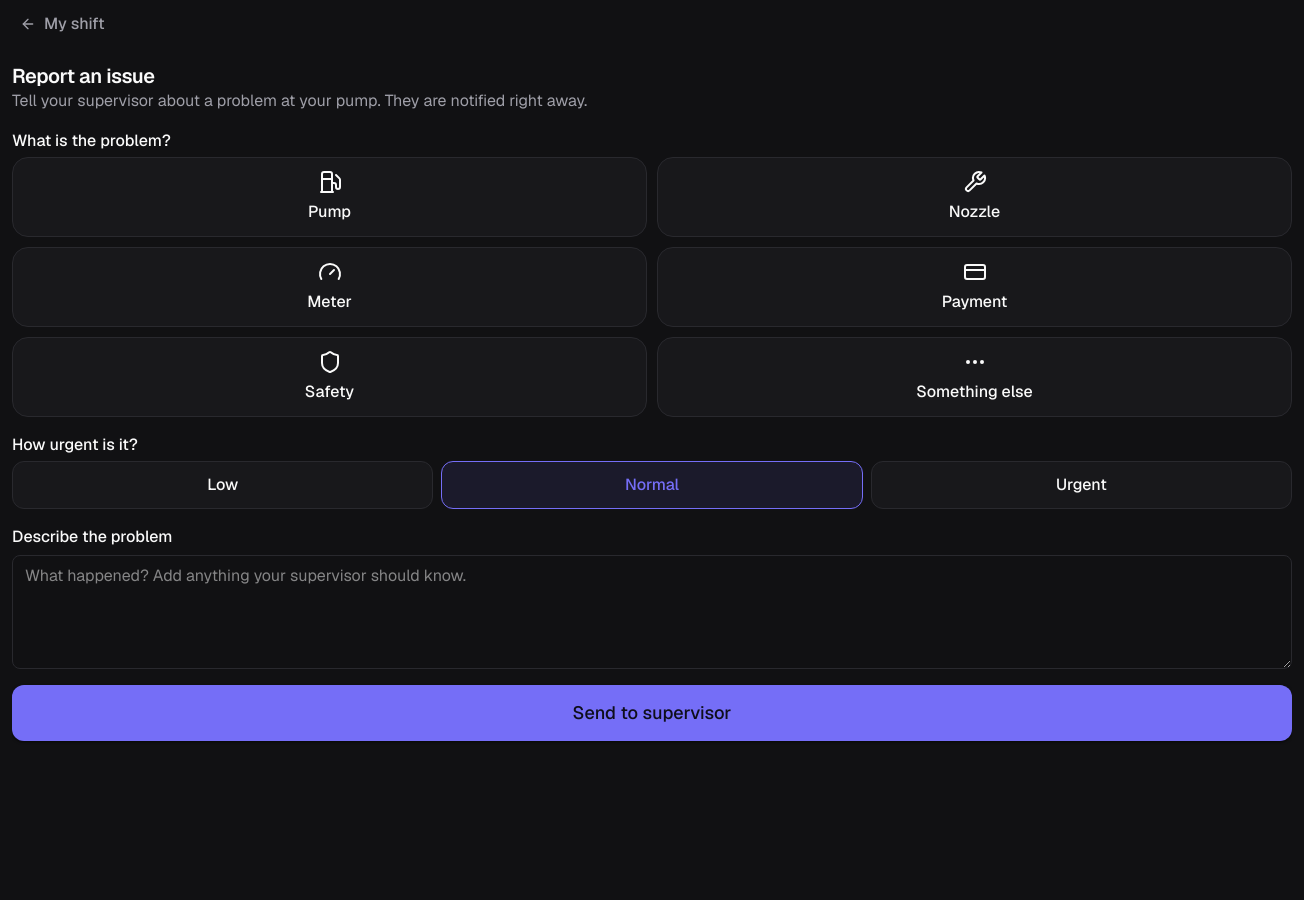
Test: ReportIssuePage › validates that a type and a description are required before confirming
The width and height of the screenshot is (1304, 900).
No type, no description → submit shows validation, no confirm step.
Click the button "Send to supervisor": (652, 713) x1=12 y1=685 x2=1292 y2=741
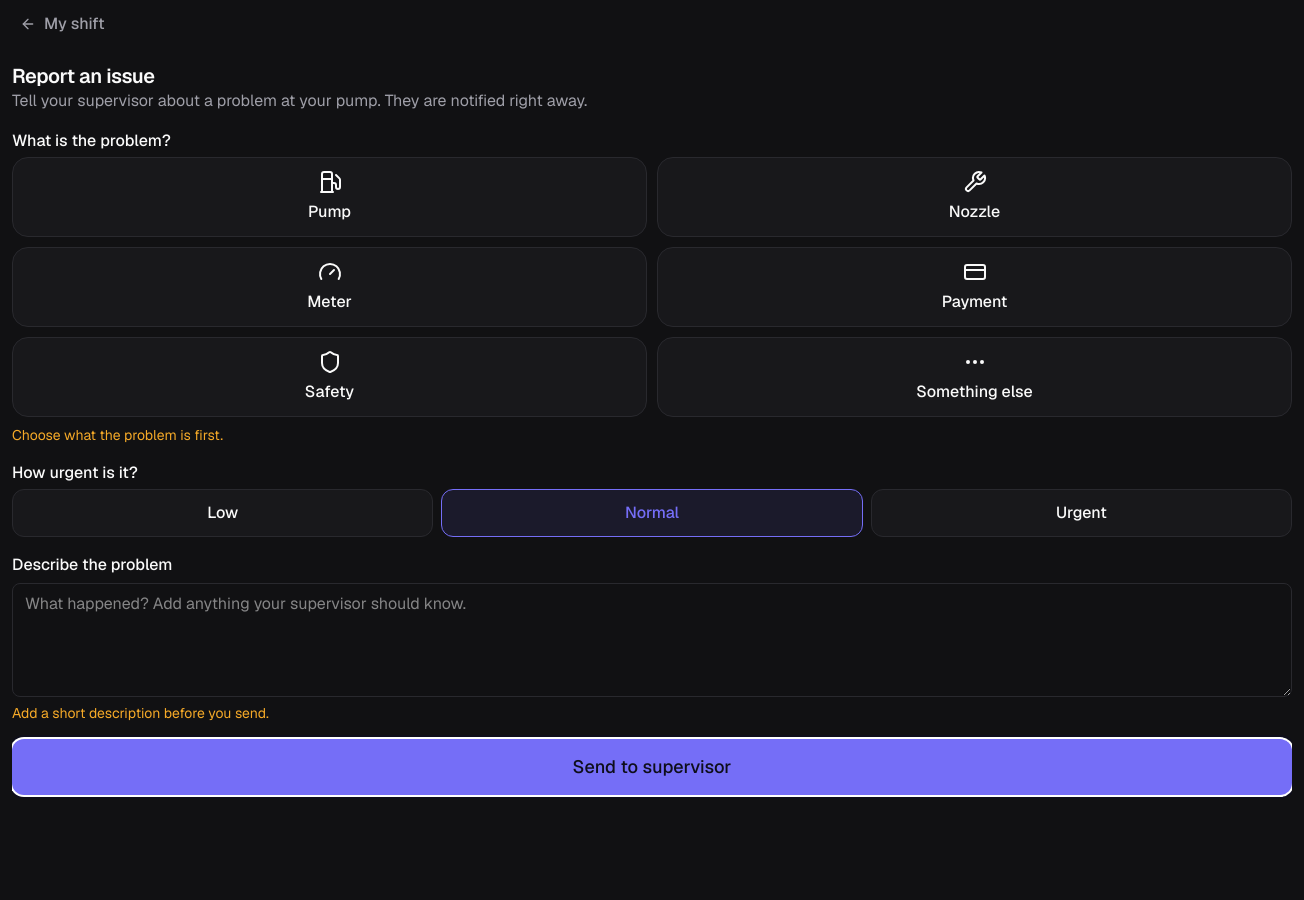
Result: the text "Choose what the problem is first." is shown at x1=12 y1=426 x2=223 y2=444
Pick a type but still no description.
Click the button "Pump": (330, 197) x1=12 y1=157 x2=647 y2=237
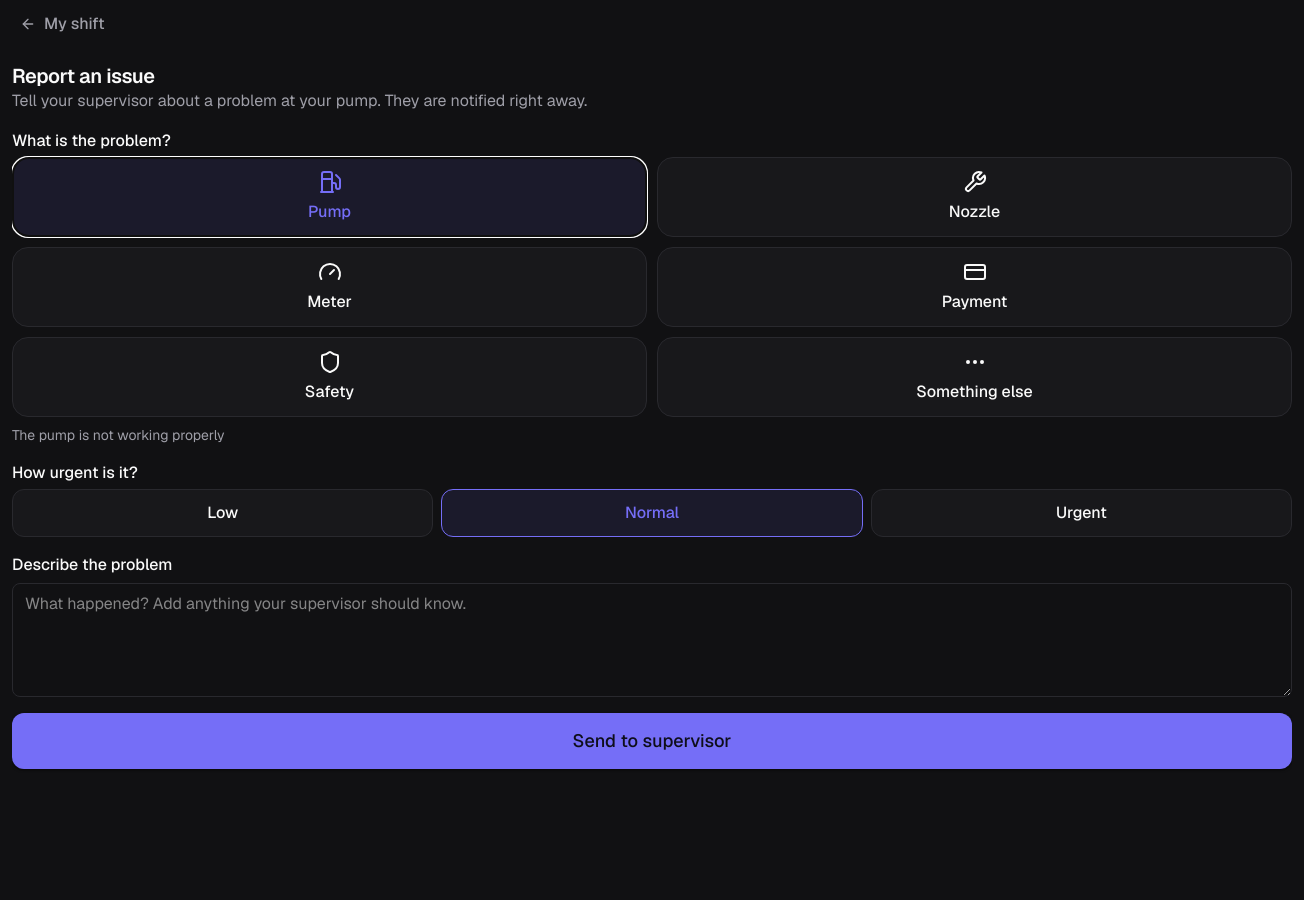
Click the button "Send to supervisor": (652, 741) x1=12 y1=713 x2=1292 y2=769
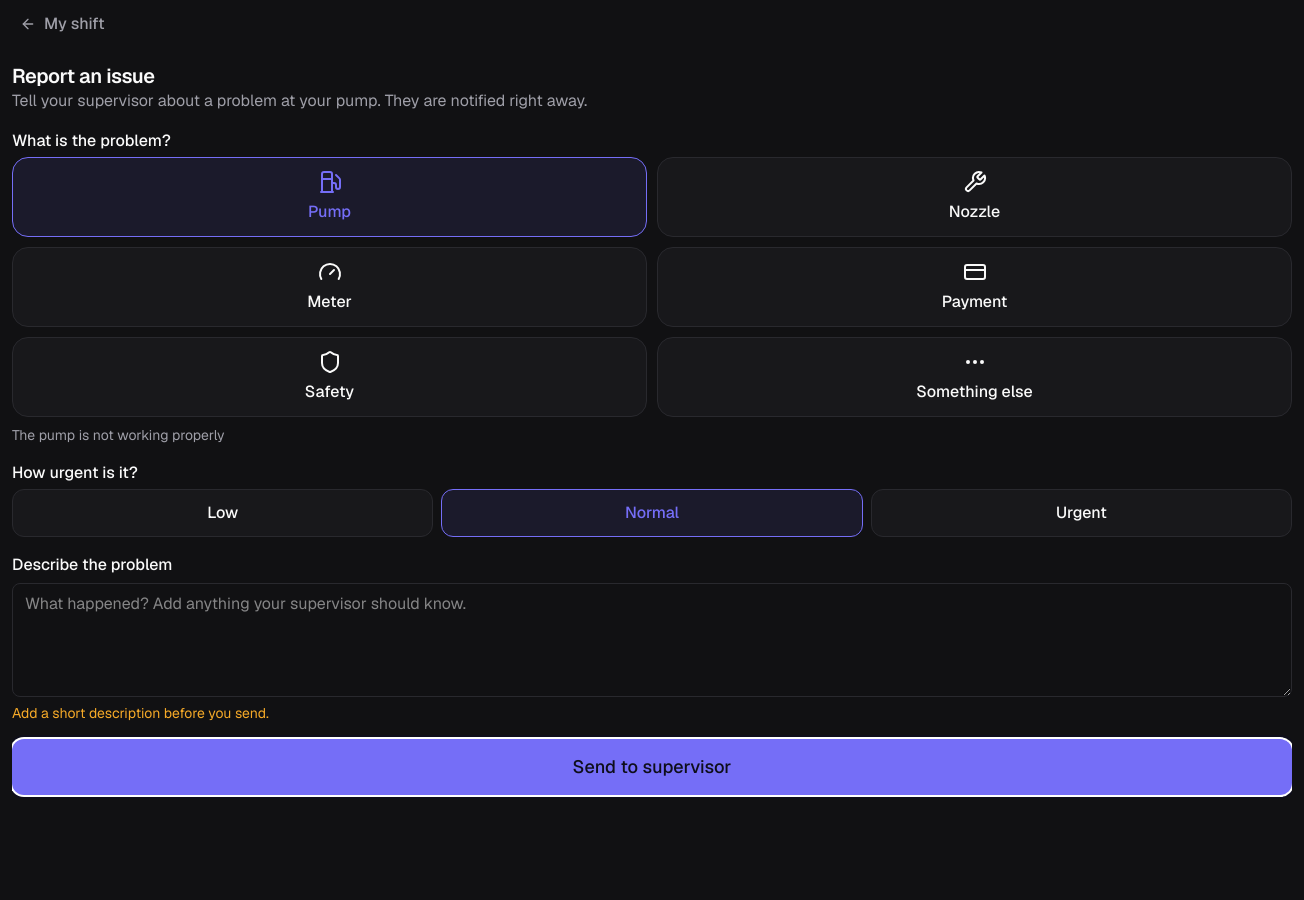
Result: the text "Add a short description before you send." is shown at x1=12 y1=704 x2=269 y2=722
